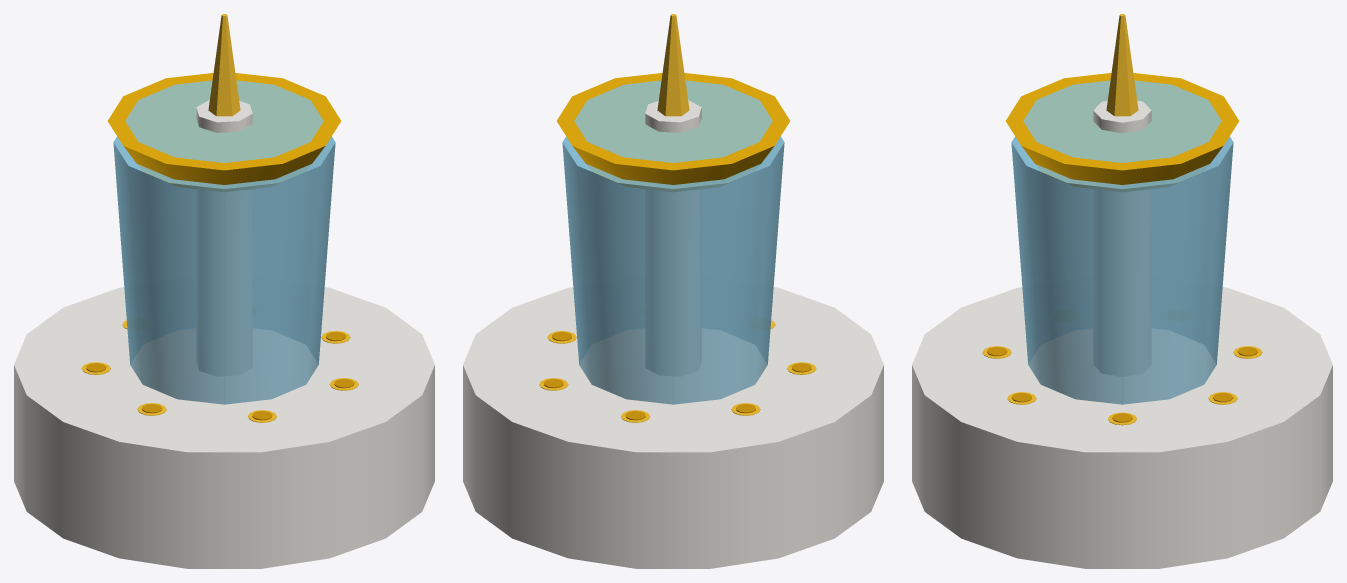
Rendered from station_special_ausstattung_1_2.glb.
3 views of the same model, side by side, from view 1: azimuth 30°, elevation 25°; view 2: azimuth 150°, elevation 25°; view 3: azimuth 270°, elevation 25° (orthographic).
Parts seen in each view (by area): view 1: station_special_ausstattung_1_2; view 2: station_special_ausstattung_1_2; view 3: station_special_ausstattung_1_2.
Boxes of the visible parts, bbox=[...] form: station_special_ausstattung_1_2: bbox=[14, 14, 434, 568]; station_special_ausstattung_1_2: bbox=[463, 14, 883, 568]; station_special_ausstattung_1_2: bbox=[912, 14, 1332, 568].
Size of the model in its own units: 0.7091 by 0.88 by 0.72.
